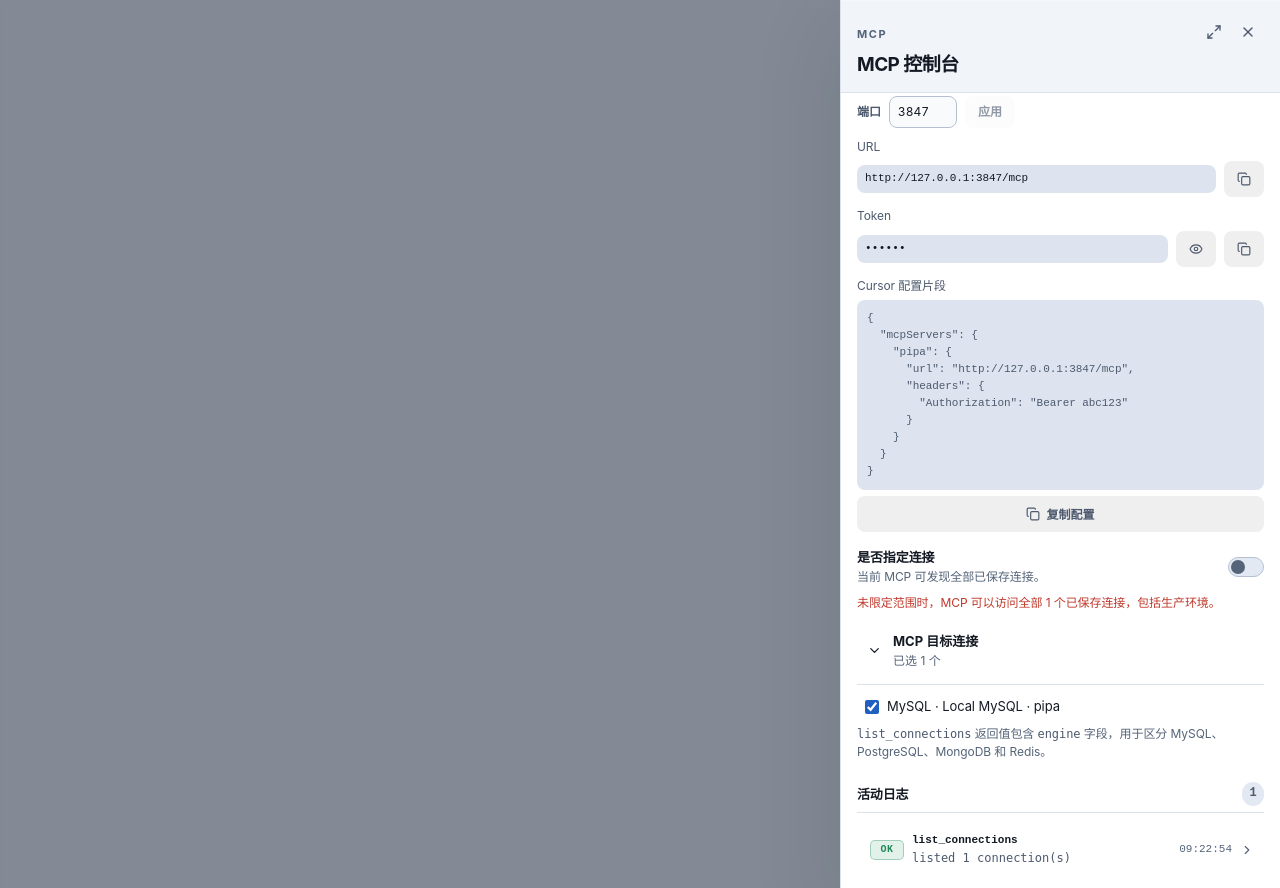
McpPanel › expands and collapses individual activity log rows
The width and height of the screenshot is (1280, 888).
(page scrolled)
Click the button "OK list_connections listed 1 connection(s) 09:22:54" at [1062, 850], box [860,824,1264,876]
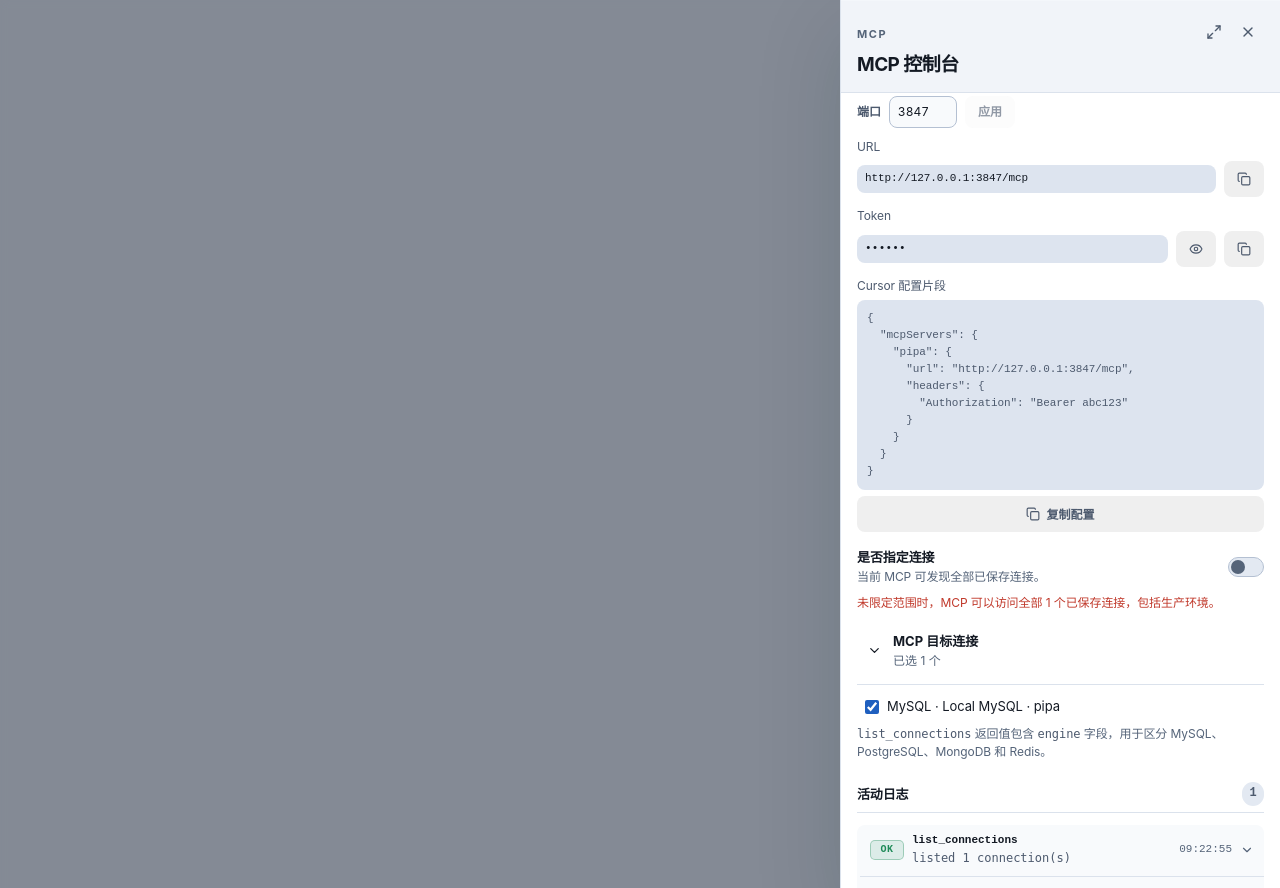
expect the button "OK list_connections listed 1 connection(s) 09:22:55" is expanded: met
Click the button "OK list_connections listed 1 connection(s) 09:22:55" at [1062, 850], box [860,824,1264,876]
(page scrolled)
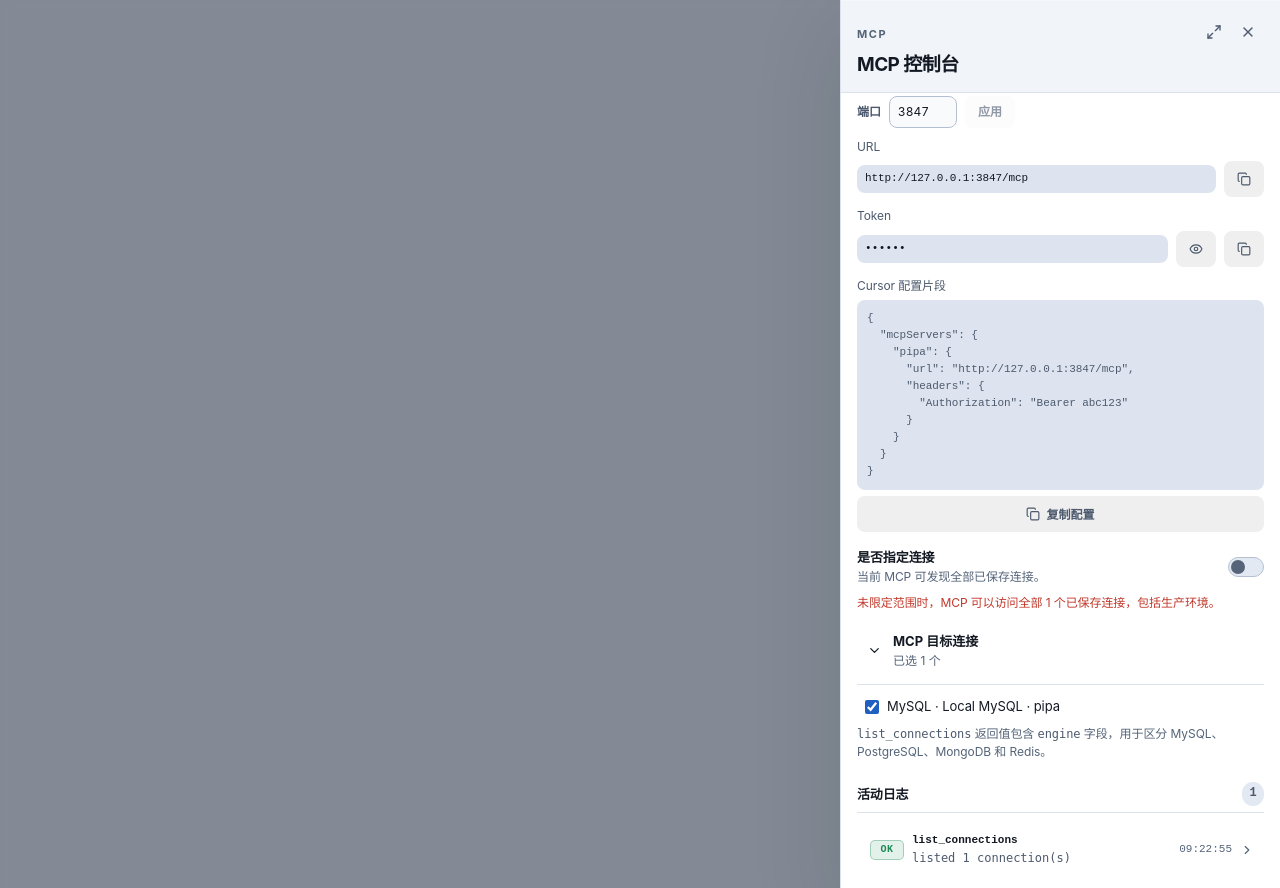
expect the button "OK list_connections listed 1 connection(s) 09:22:55" is collapsed: met, box [860,824,1264,876]
